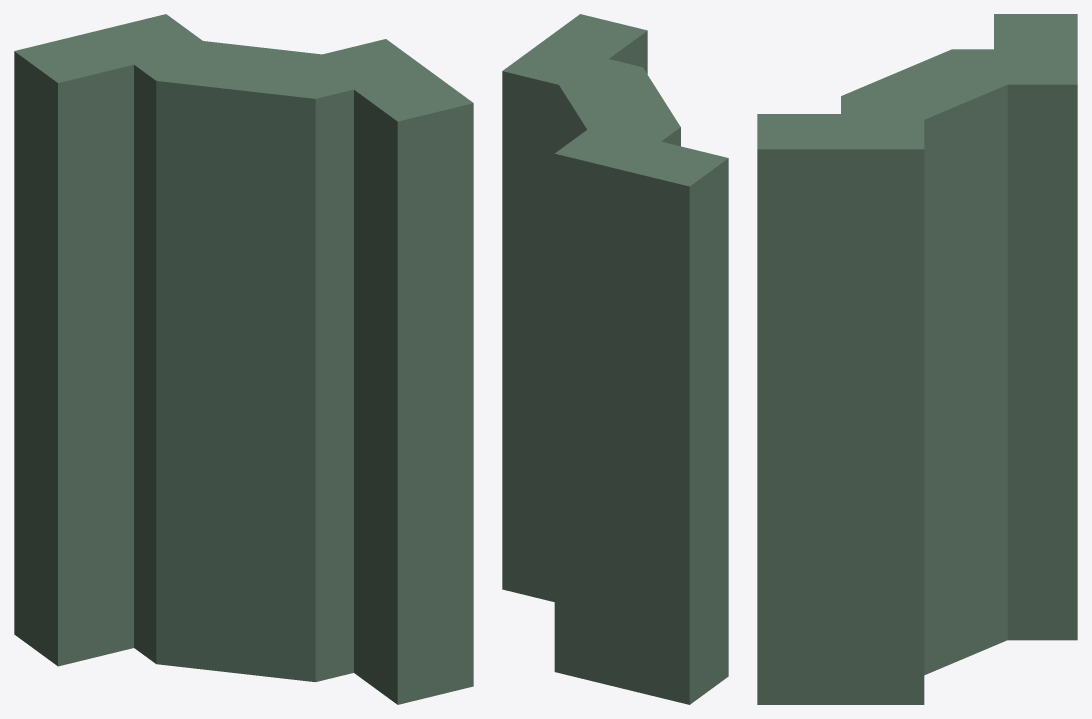
Rendered from W2_WallCorner_Angular2A.fbx.
3 renders of one model, left to right at view 1: azimuth 30°, elevation 25°; view 2: azimuth 150°, elevation 25°; view 3: azimuth 270°, elevation 25°, orthographic. The views are drawn at different scales.
Parts seen in each view (by area): view 1: W2_WallCorner_Angular2A.001; view 2: W2_WallCorner_Angular2A.001; view 3: W2_WallCorner_Angular2A.001.
Part boxes in pixels (<box>): W2_WallCorner_Angular2A.001: <box>14,14,473,704</box>; W2_WallCorner_Angular2A.001: <box>502,14,728,704</box>; W2_WallCorner_Angular2A.001: <box>757,14,1077,704</box>.
Bounding box in the file's own units: 1.15 × 2.2 × 1.15.
